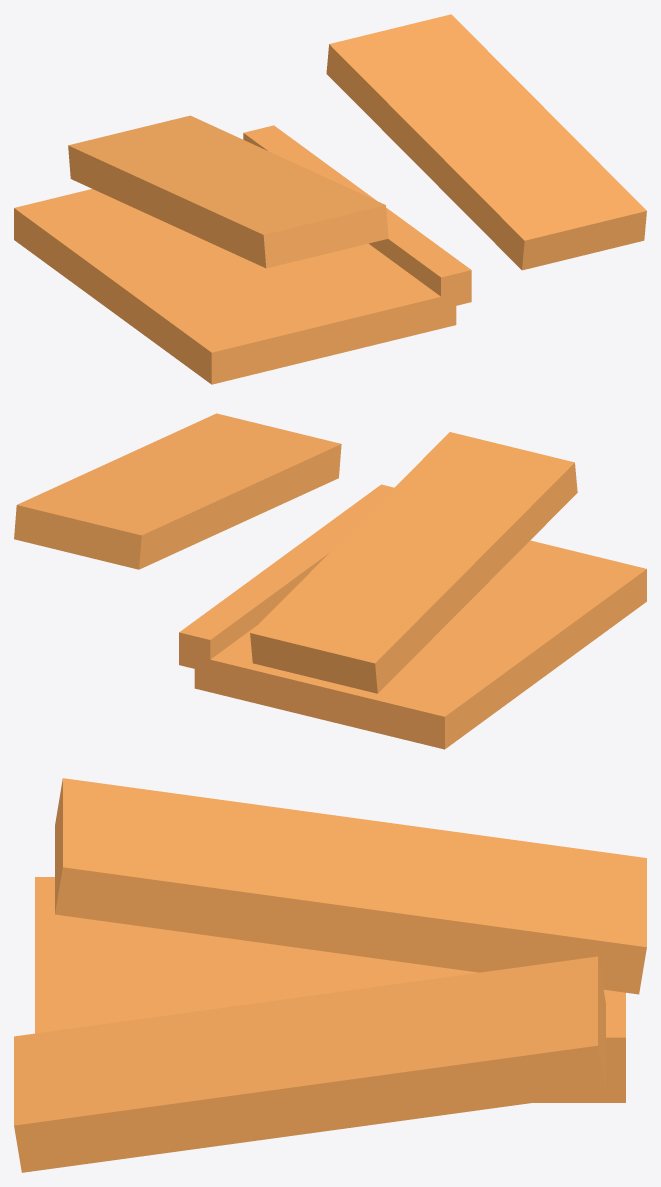
3 renders of one model, top to bottom at view 1: azimuth 30°, elevation 25°; view 2: azimuth 150°, elevation 25°; view 3: azimuth 270°, elevation 25°, orthographic. The views are drawn at different scales.
Size of the model in its own units: 0.7 by 0.2001 by 0.6.
